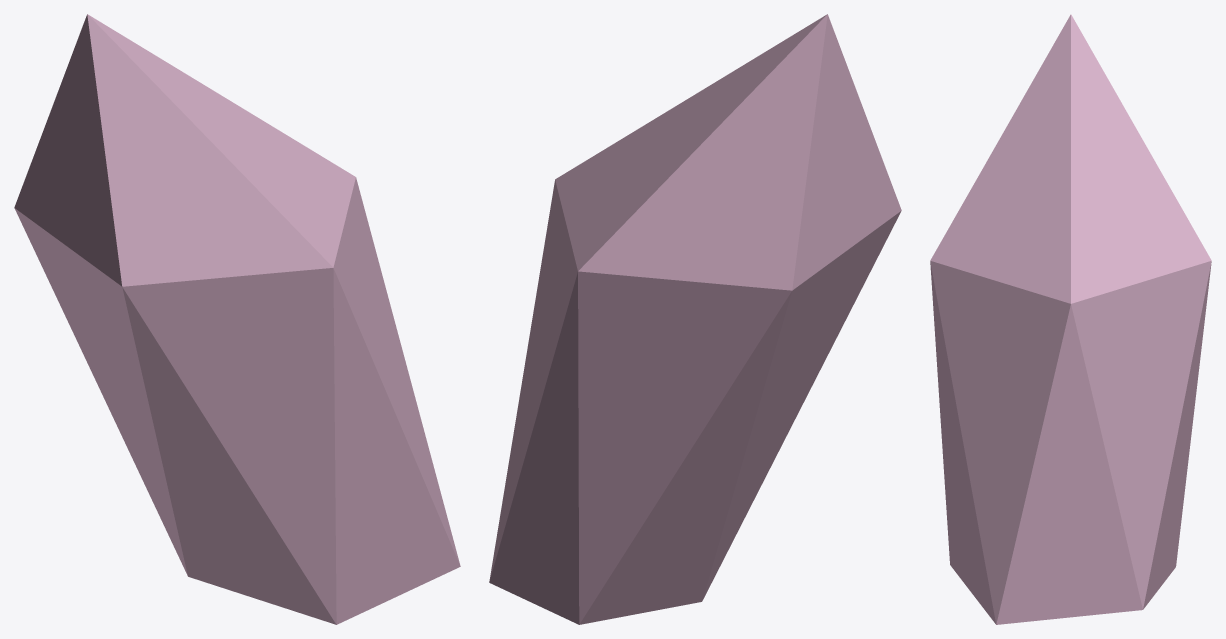
File: singlecrystal.dae
The picture shows the model from 3 angles, left to right: view 1: azimuth 30°, elevation 25°; view 2: azimuth 150°, elevation 25°; view 3: azimuth 270°, elevation 25°; orthographic projection. The views are drawn at different scales.
Parts seen in each view (by area): view 1: Icosphere; view 2: Icosphere; view 3: Icosphere.
Boxes of the visible parts, x1,y1,x2,y2 form: Icosphere: (14,14,460,624); Icosphere: (489,14,901,624); Icosphere: (930,14,1211,624).
Bounding box in the file's own units: 2.27 × 1.98 × 3.78.
